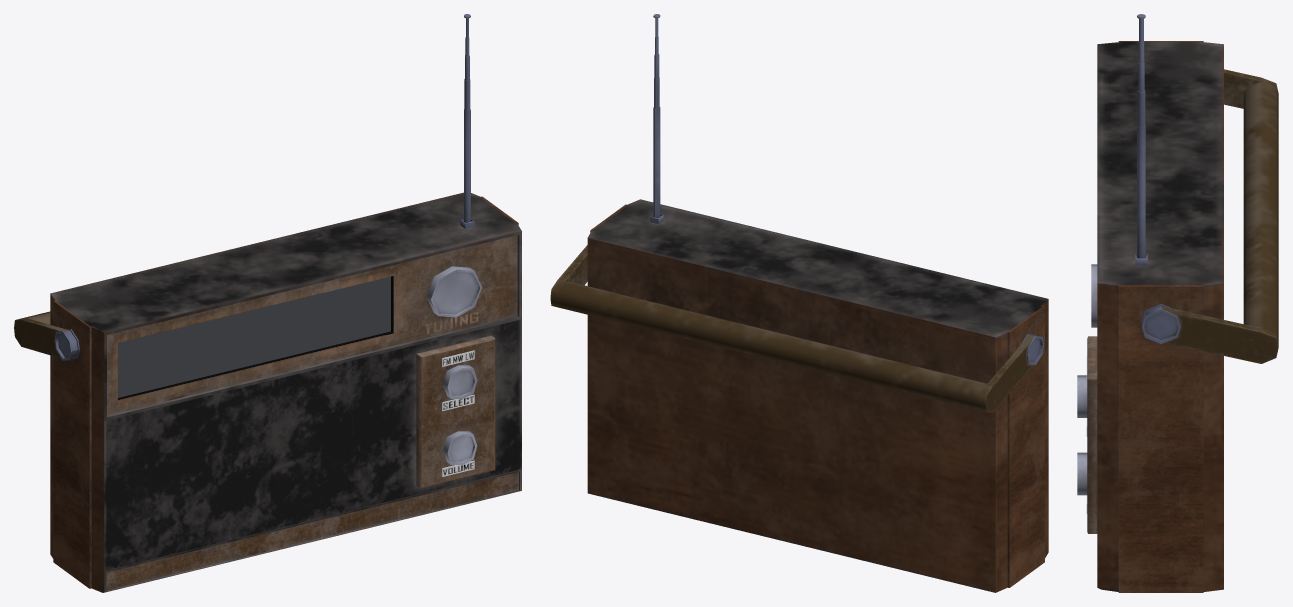
The model's file is Radio.fbx.
3 views of the same model, side by side, from view 1: azimuth 30°, elevation 25°; view 2: azimuth 150°, elevation 25°; view 3: azimuth 270°, elevation 25° (orthographic). The views are drawn at different scales.
Parts seen in each view (by area): view 1: Radio; view 2: Radio; view 3: Radio.
Part boxes in pixels (box(x1,y1,x2,y2)): Radio: box(14, 14, 521, 592); Radio: box(550, 14, 1048, 592); Radio: box(1077, 14, 1278, 592).
Size of the model in its own units: 34.1 by 34.33 by 11.31.
